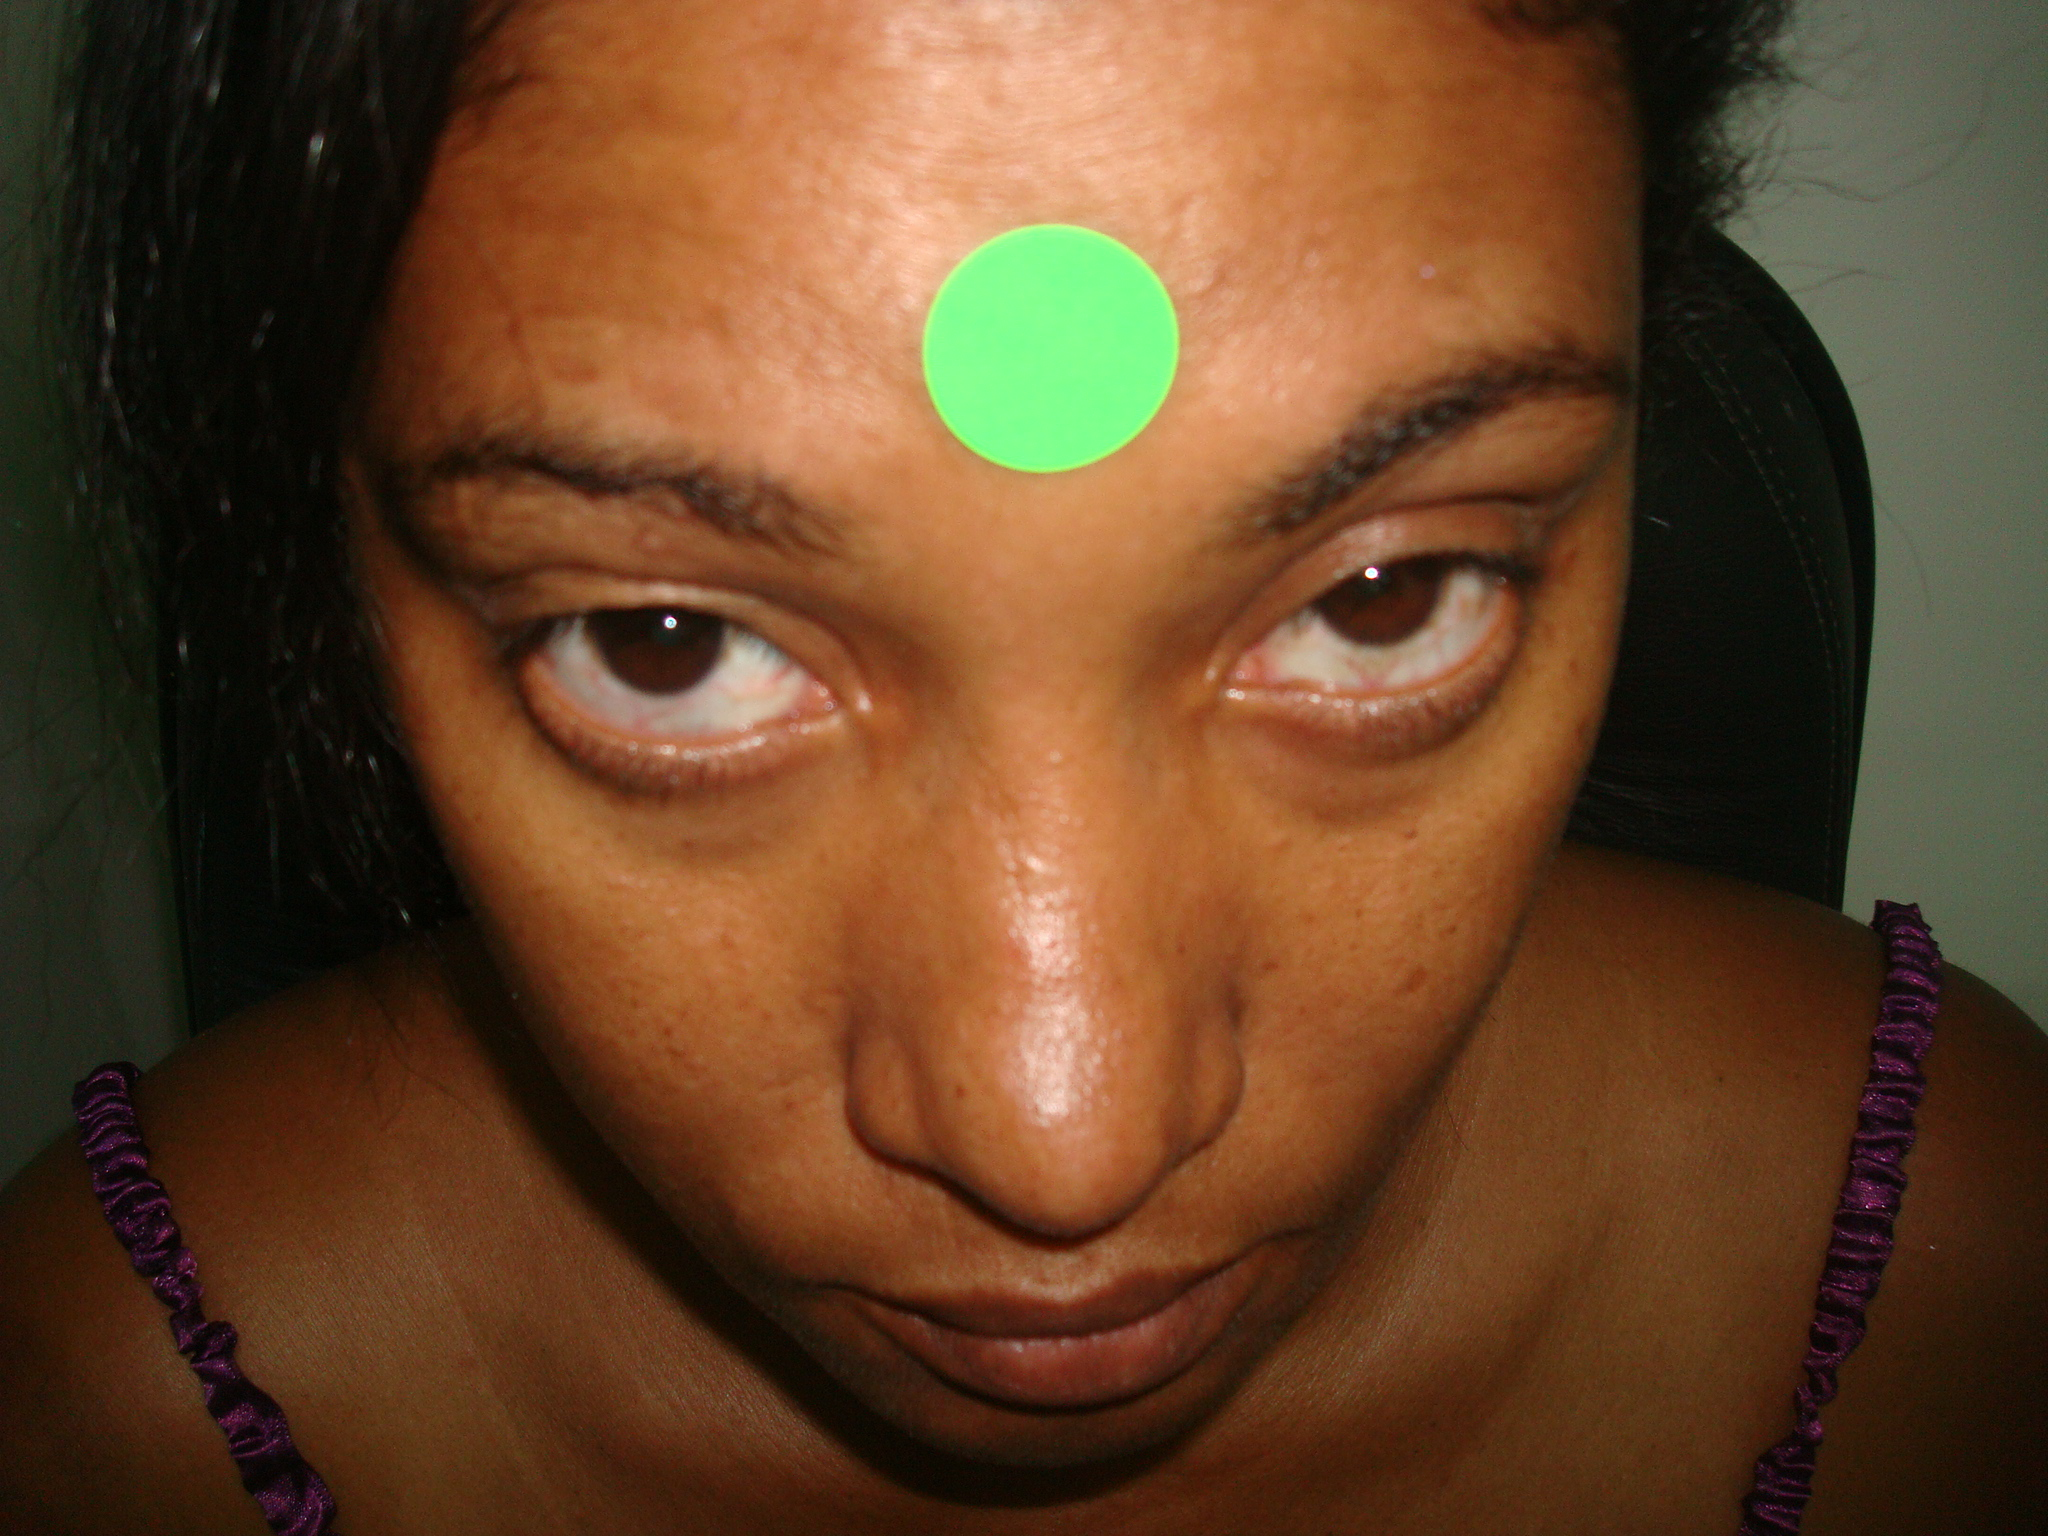flash: (660, 613, 681, 634), (1363, 565, 1380, 581)
limbo: (1316, 521, 1434, 644), (600, 573, 727, 681)
